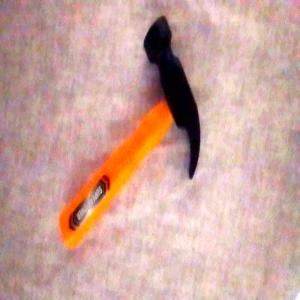martelo: (58, 12, 201, 250)
